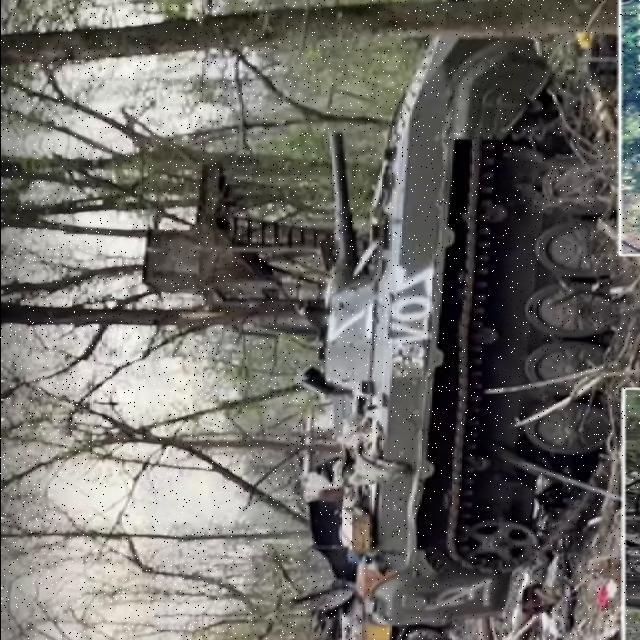APC-IFV: (296, 8, 622, 622)
